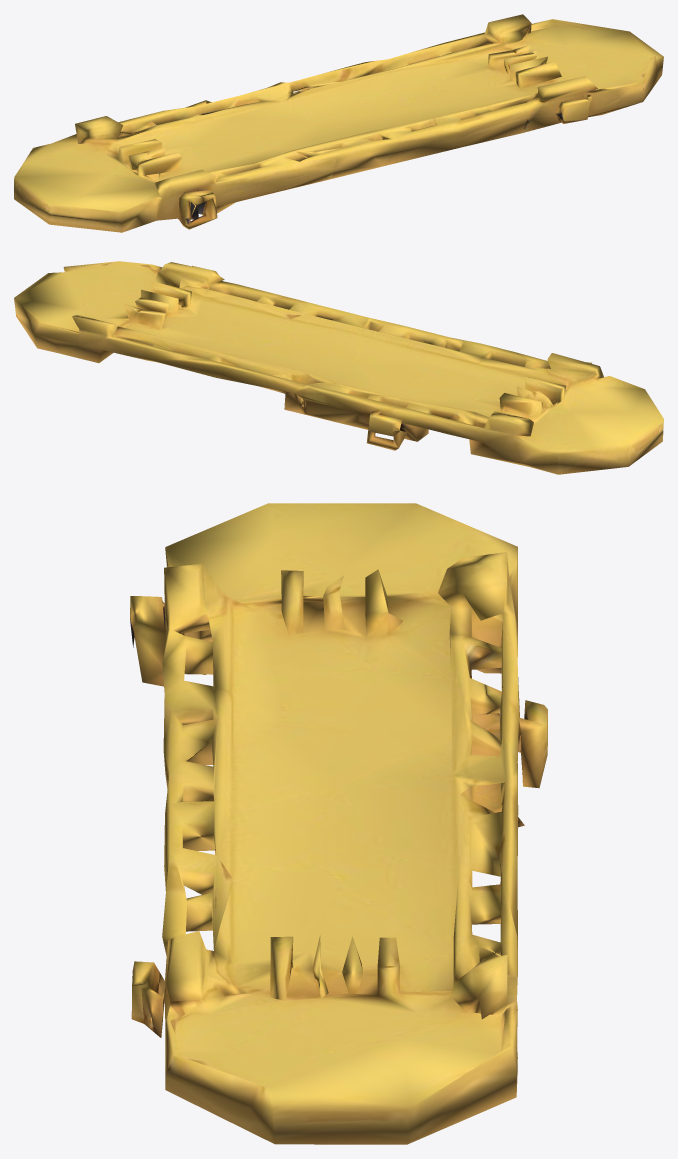
The model's file is board.glb.
The picture shows the model from 3 angles, top to bottom: view 1: azimuth 30°, elevation 25°; view 2: azimuth 150°, elevation 25°; view 3: azimuth 270°, elevation 25°; orthographic projection. The views are drawn at different scales.
Parts seen in each view (by area): view 1: tripo_node_42bd242f-e8f2-4adf-b9b6-02608d01a84b; view 2: tripo_node_42bd242f-e8f2-4adf-b9b6-02608d01a84b; view 3: tripo_node_42bd242f-e8f2-4adf-b9b6-02608d01a84b.
Boxes of the visible parts, left/top/right/bottom form: tripo_node_42bd242f-e8f2-4adf-b9b6-02608d01a84b: left=14, top=14, right=663, bottom=232; tripo_node_42bd242f-e8f2-4adf-b9b6-02608d01a84b: left=14, top=261, right=663, bottom=474; tripo_node_42bd242f-e8f2-4adf-b9b6-02608d01a84b: left=130, top=503, right=547, bottom=1144.
Bounding box in the file's own units: 2.89 × 0.2189 × 0.8502.
1 material, 1 textured.
